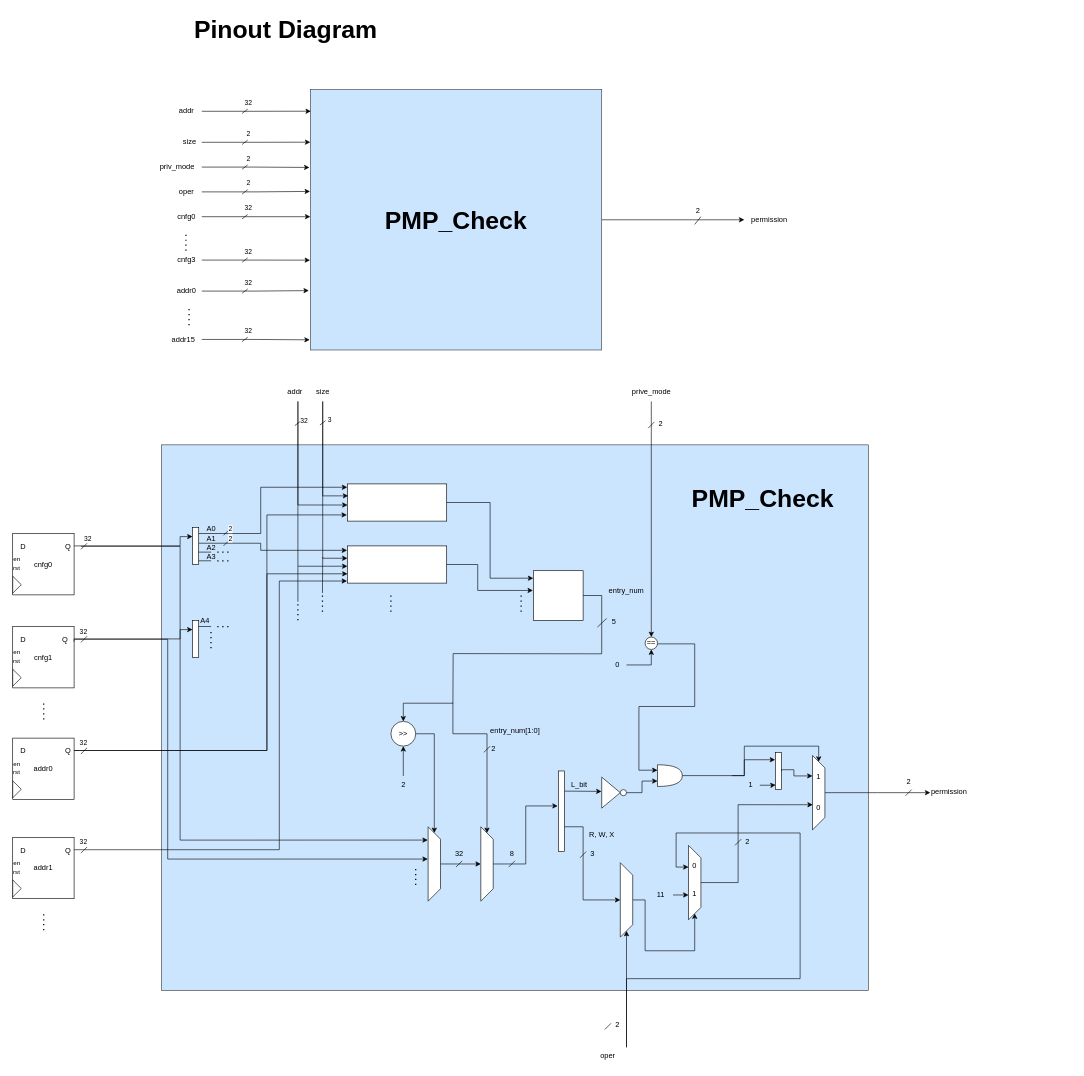
Image size: 1084x1076. Some labels were removed from this diagram. The centre of each missing label's shape, as x and y in pixels:
addr_check0: the point at 397,502
addr_check1: the point at 397,564
priority circuit: the point at 558,595
